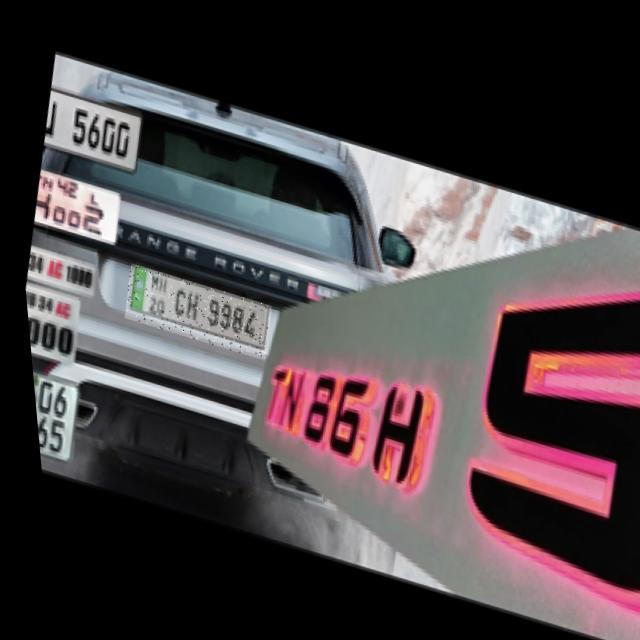license_plate: (114, 260, 270, 356)
